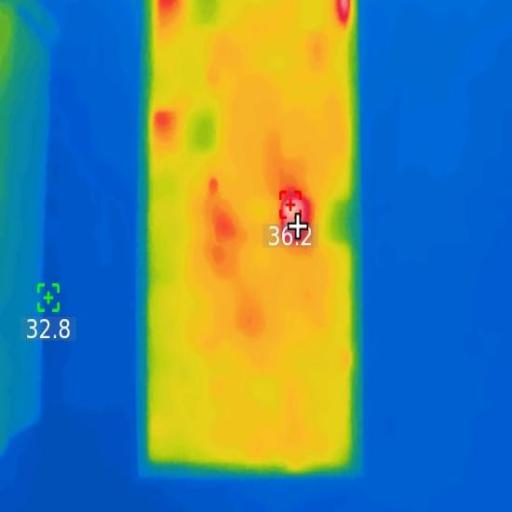hotspot: (282, 197, 310, 242), (154, 111, 176, 141), (338, 0, 347, 30)
